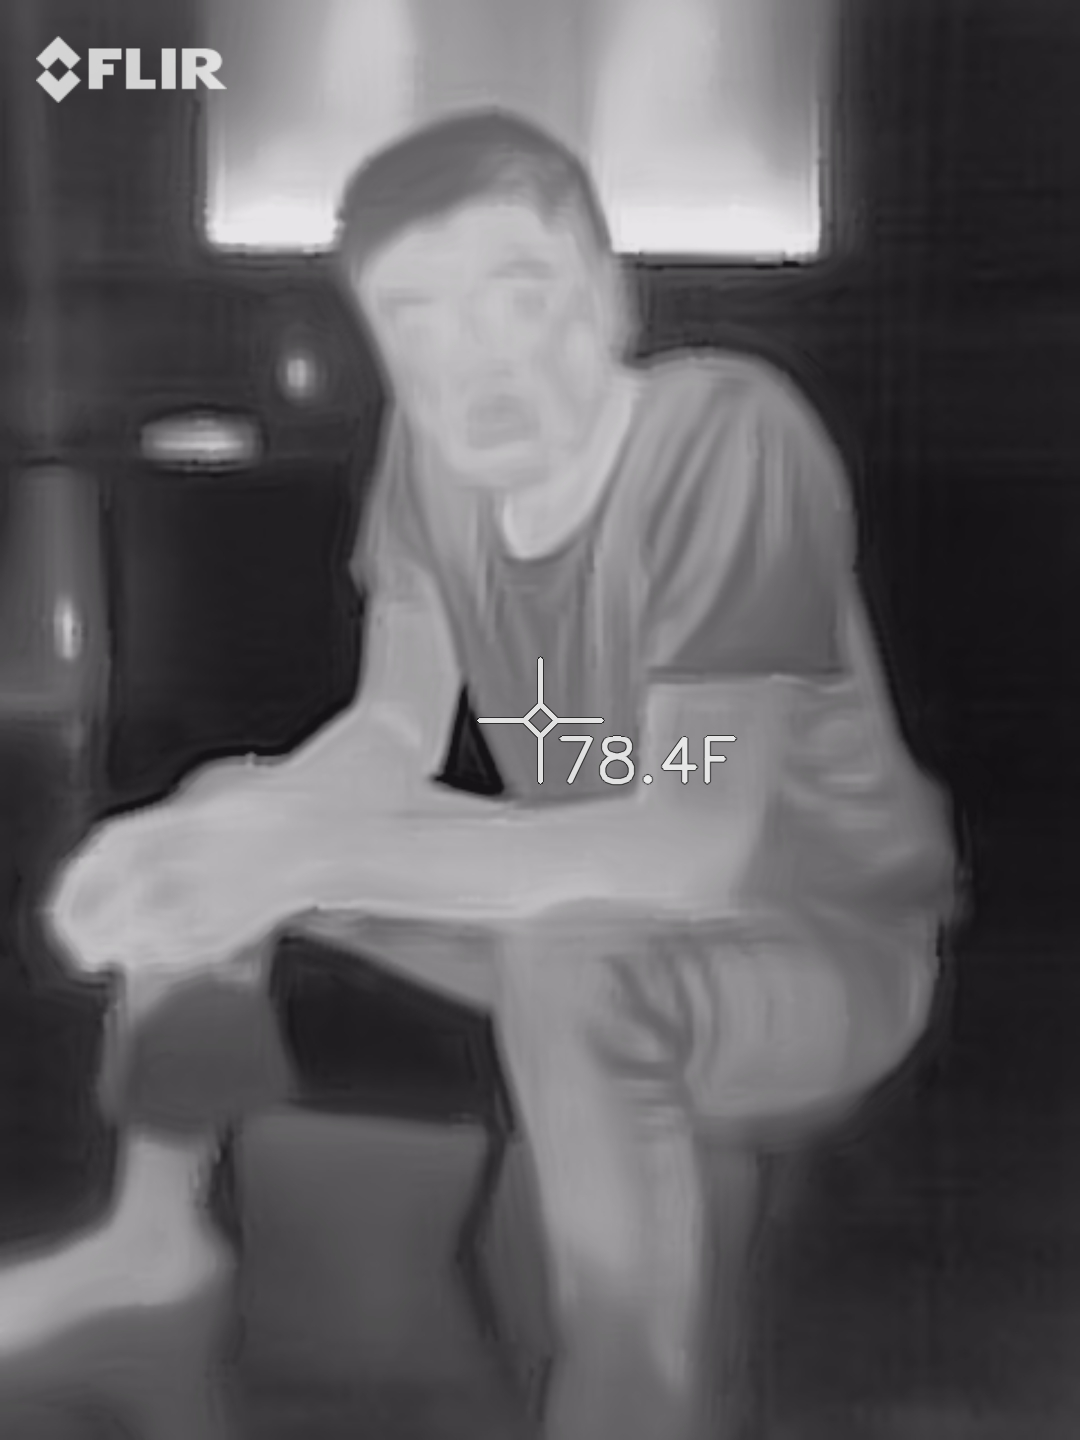head: (330, 112, 628, 487)
